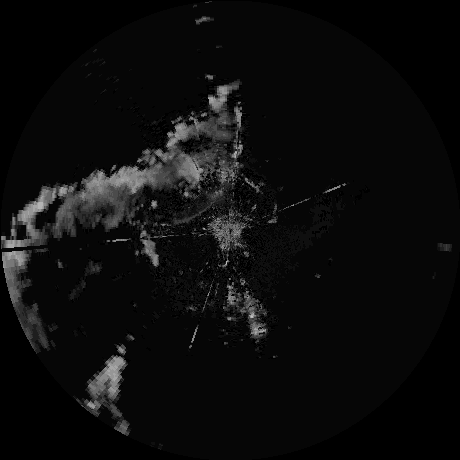frontgust: (169, 189, 221, 225)
